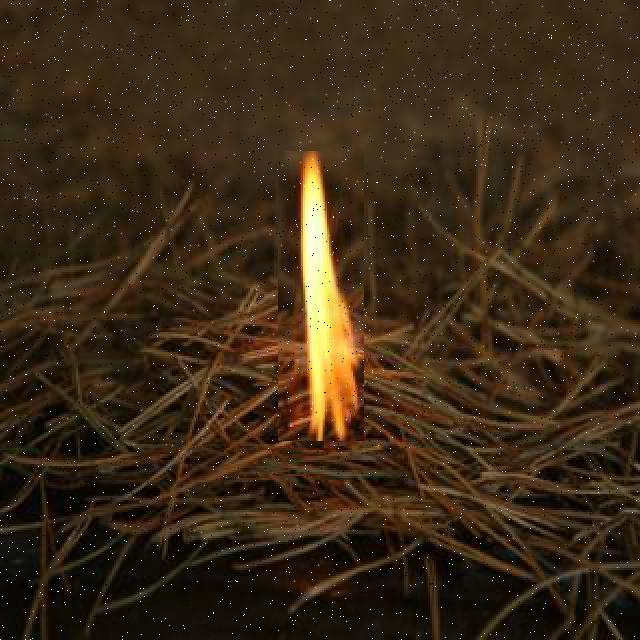fire: (278, 151, 364, 441)
